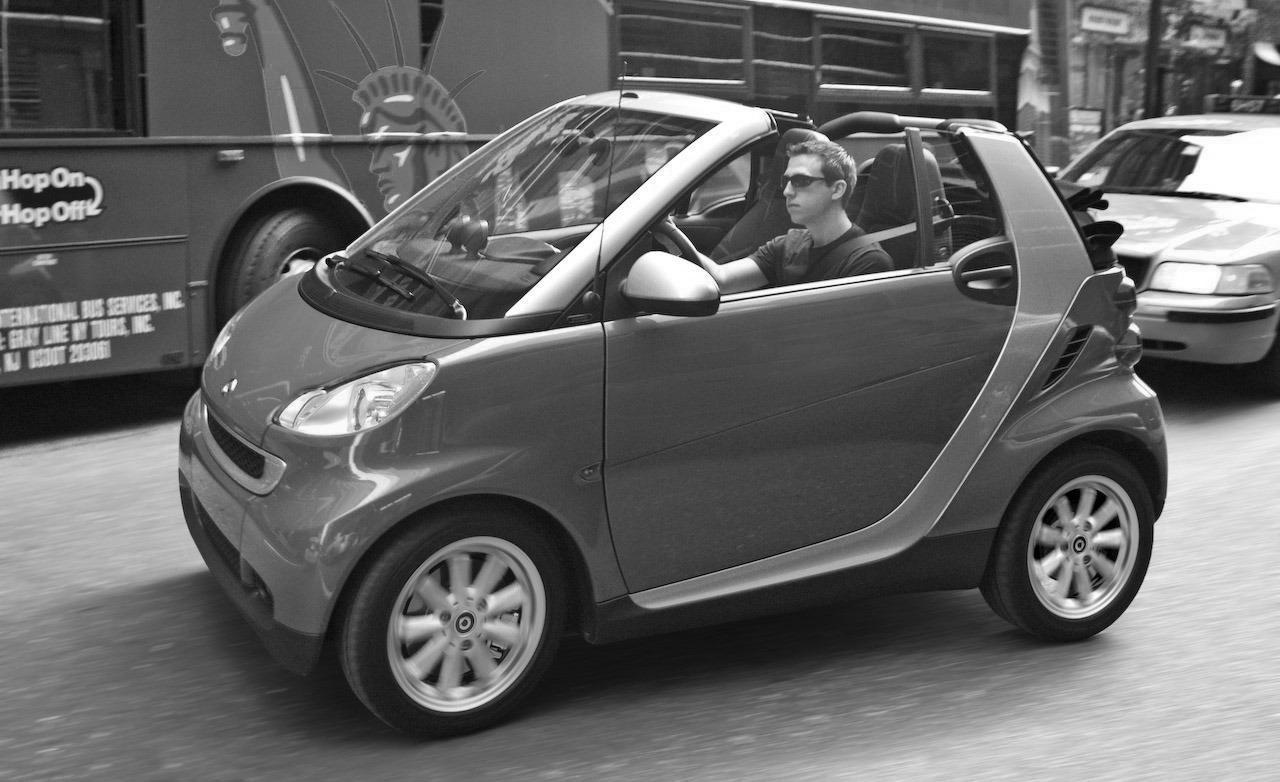car: (176, 89, 1175, 735)
